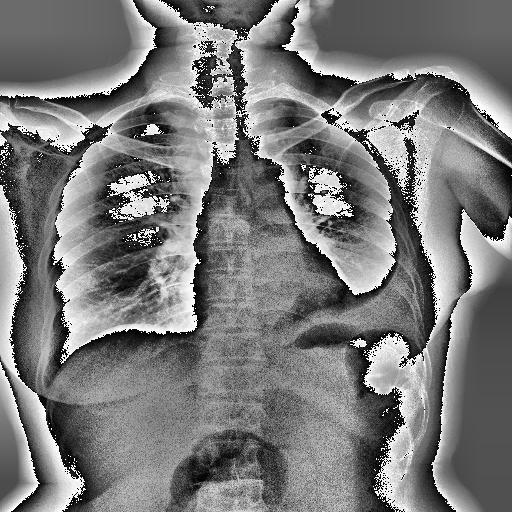10- Pleural effusion: (336, 226, 424, 351), (329, 244, 413, 342), (349, 241, 428, 338)
